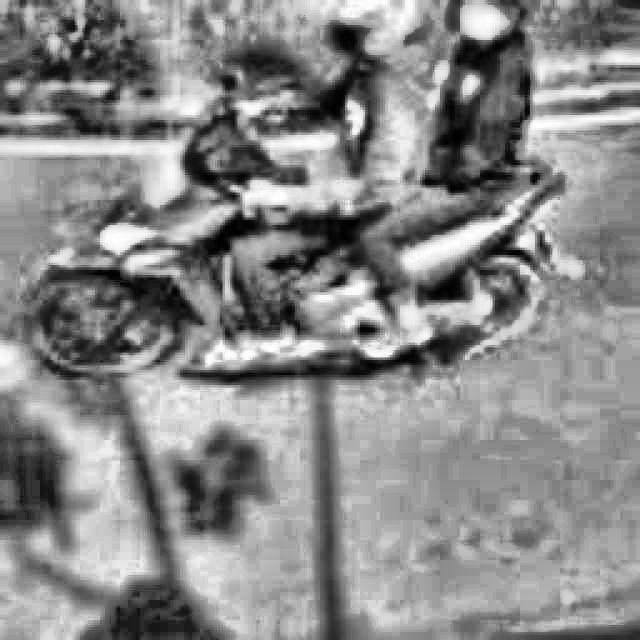motorcycle: (20, 69, 586, 377)
